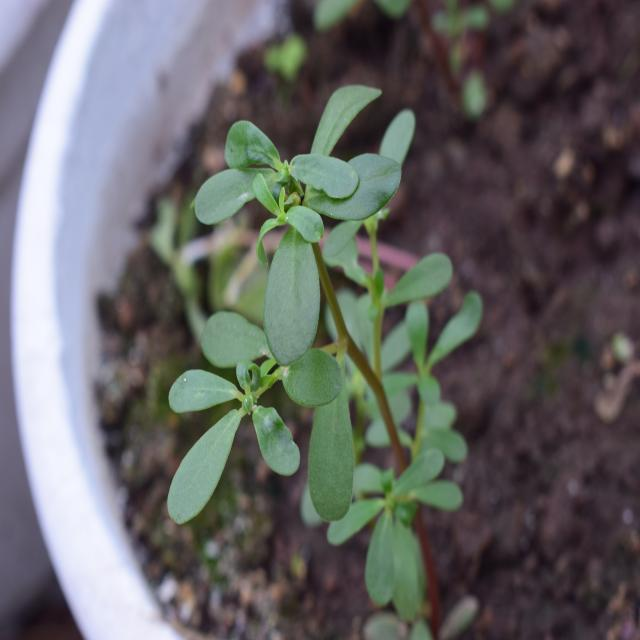purslane: (165, 65, 472, 594)
